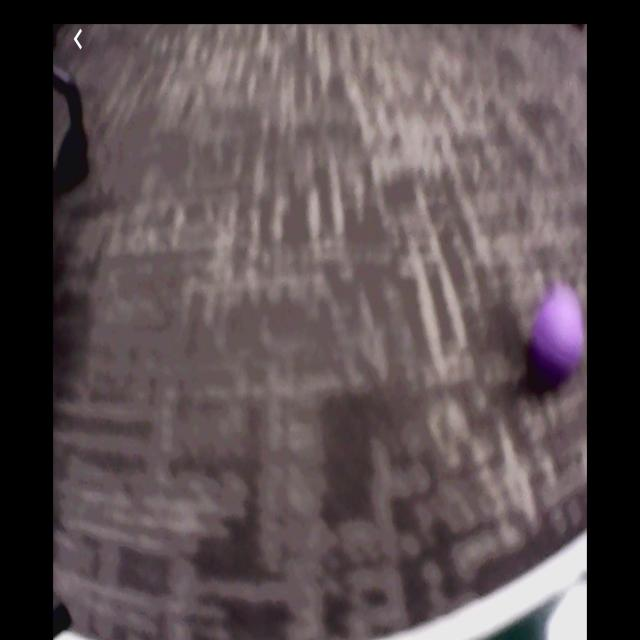ball: (530, 289, 585, 375)
